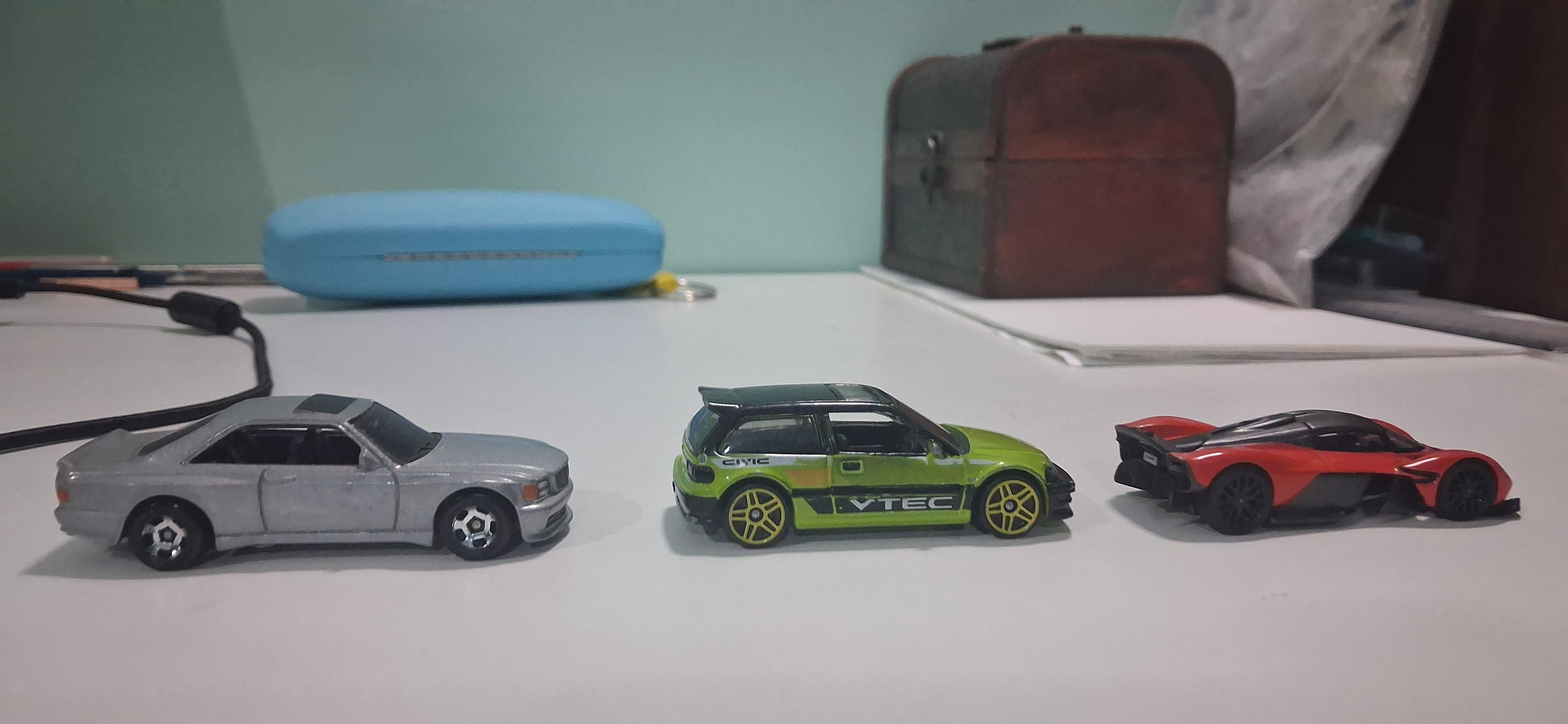Aston_Martin_Valkyrie: (1111, 382, 1530, 556)
Honda_Civic: (657, 331, 1090, 602)
Mercedes_Benz_560_SEC_AMG: (32, 338, 604, 599)
